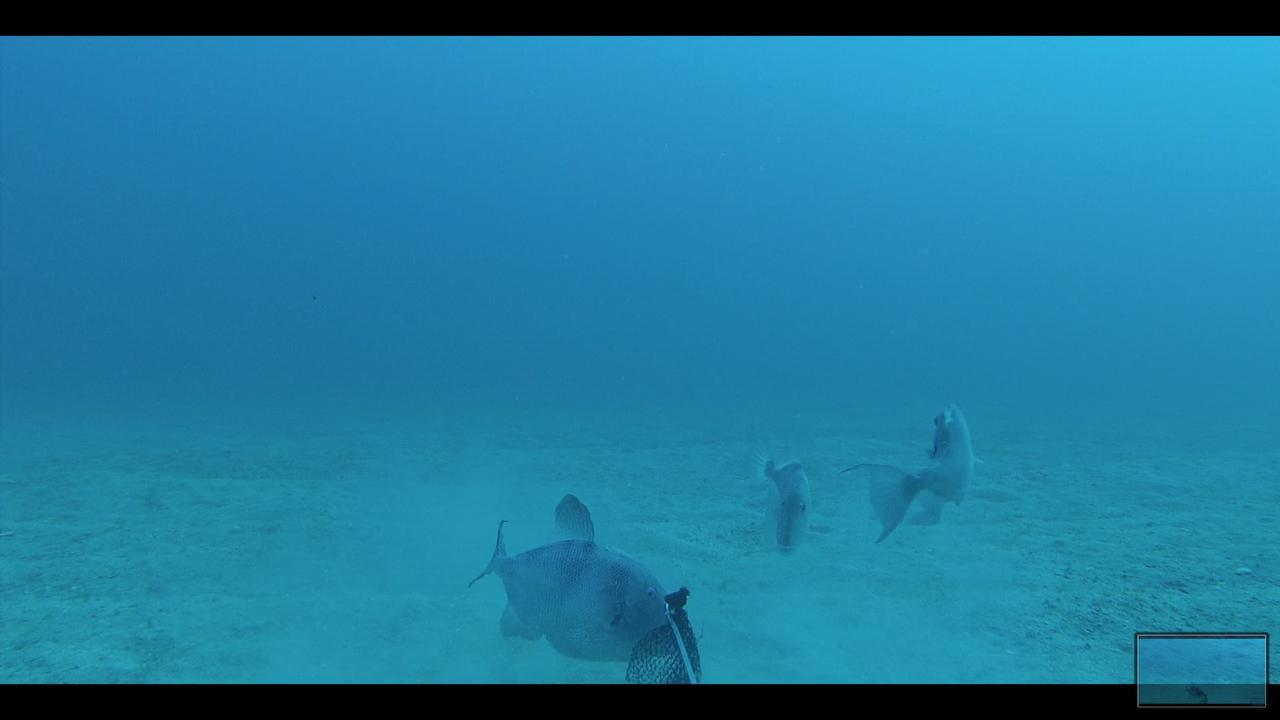balistes: (457, 486, 680, 660), (833, 396, 986, 546), (737, 436, 815, 560)
